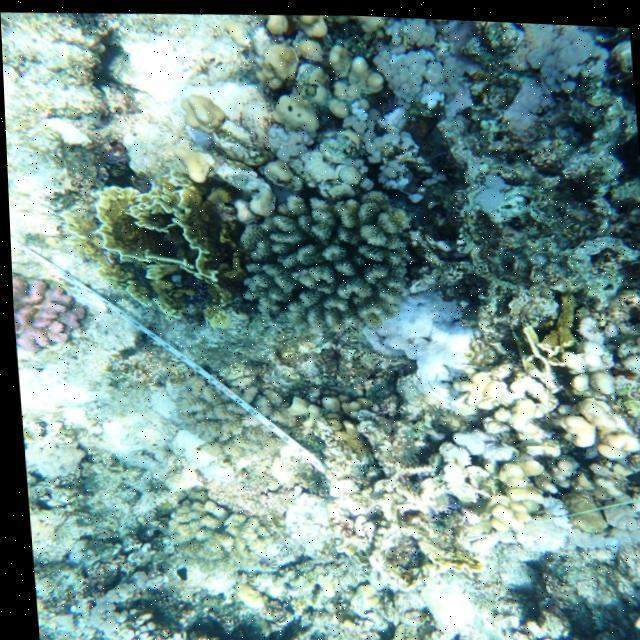Bleached Coral: (353, 269, 495, 399)
Healthy Coral: (225, 189, 403, 319), (11, 272, 94, 352)
